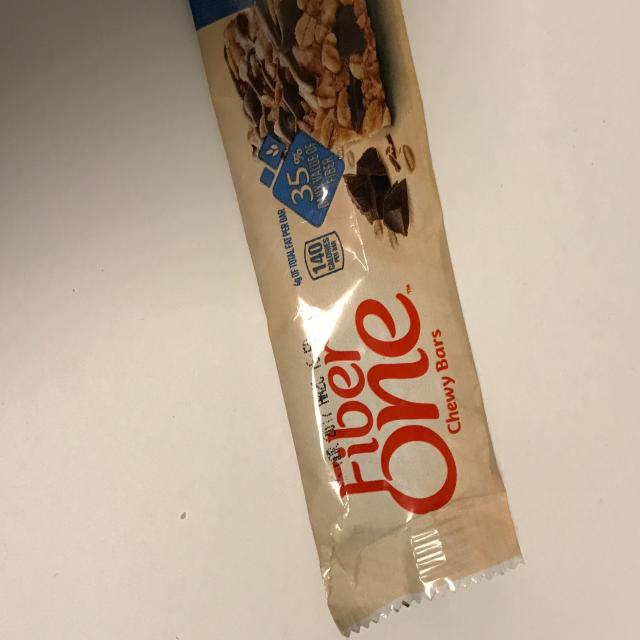trash: (183, 0, 525, 637)
